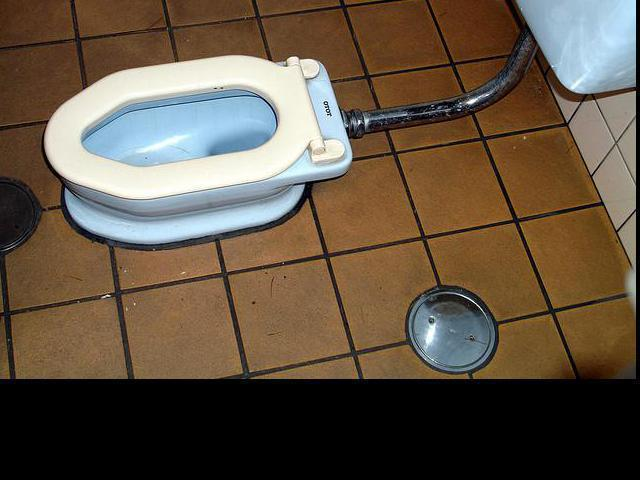Sanitario: (43, 38, 369, 271)
